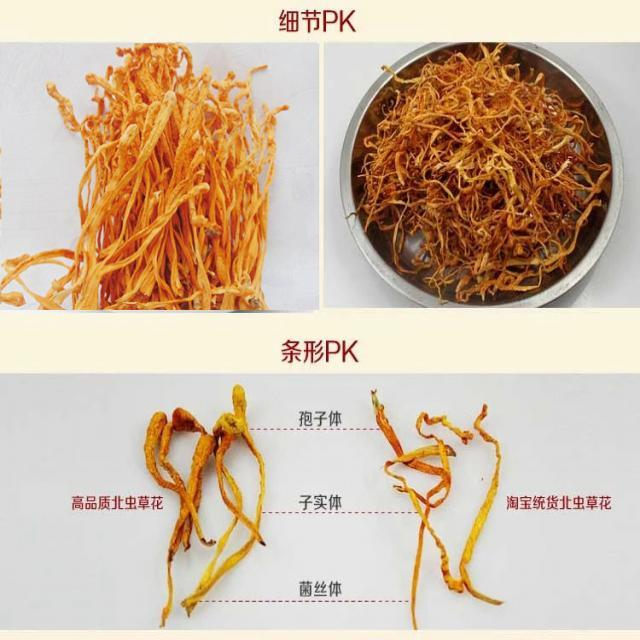Cordyceps militaris: (0, 44, 291, 313), (355, 49, 601, 288), (368, 386, 506, 631), (142, 390, 265, 626)
